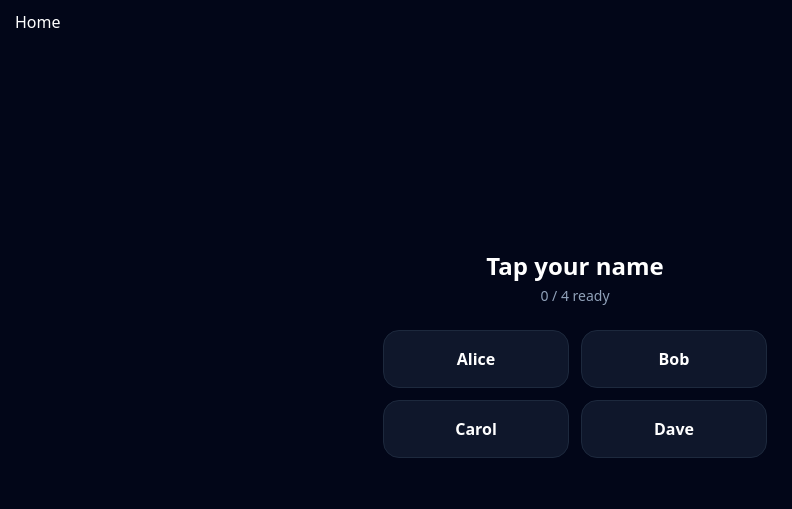
Test: Game Play Page › non-imposter player sees the word on reveal
The image size is (792, 509).
Click the button "Alice" at (476, 359), box [383,330,569,388]
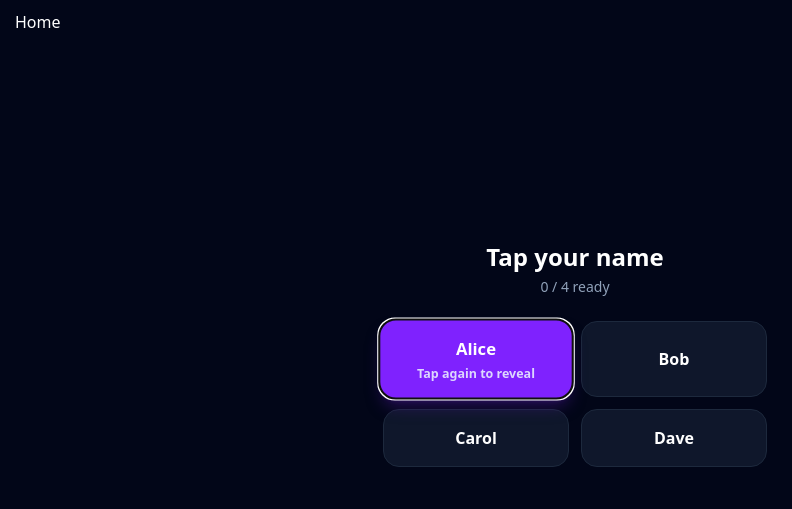
Click the button "Alice Tap again to reveal" at (476, 359), box [379,320,573,398]
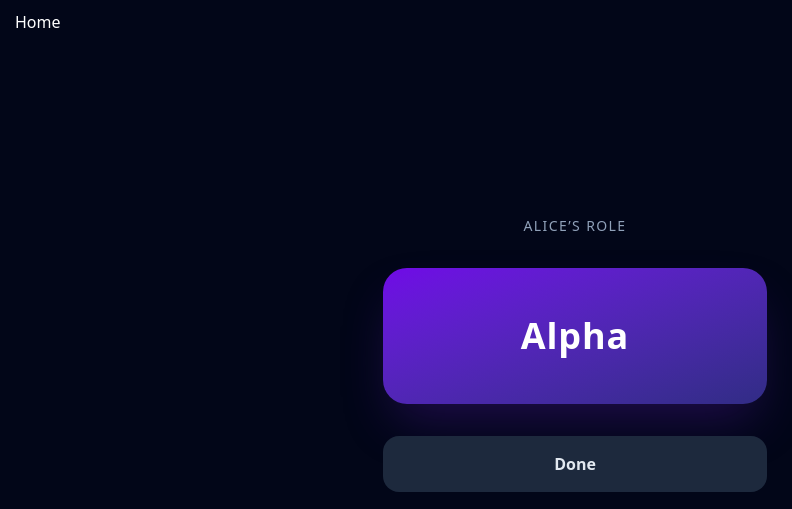
Now the text "Alpha" is shown, box [521,316,629,356]
